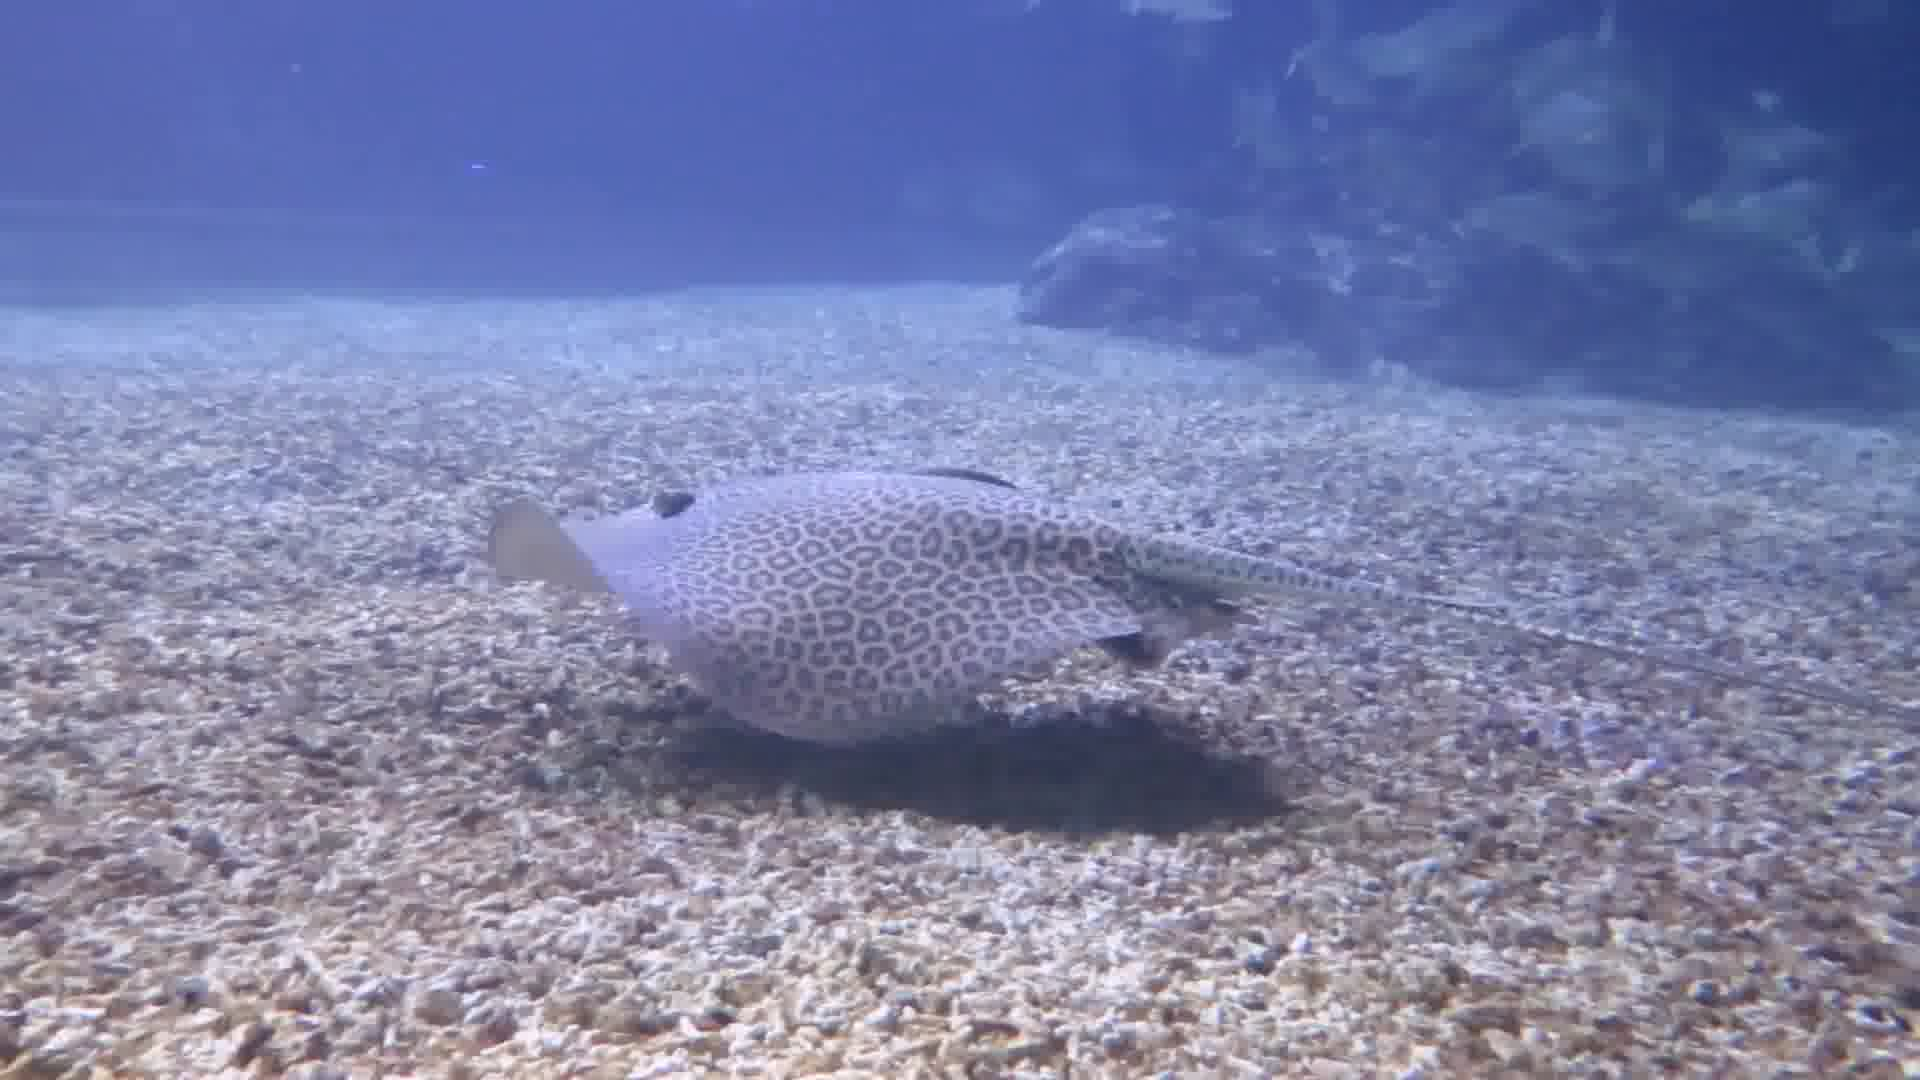Himantura uarnak: (405, 328, 1920, 852)
